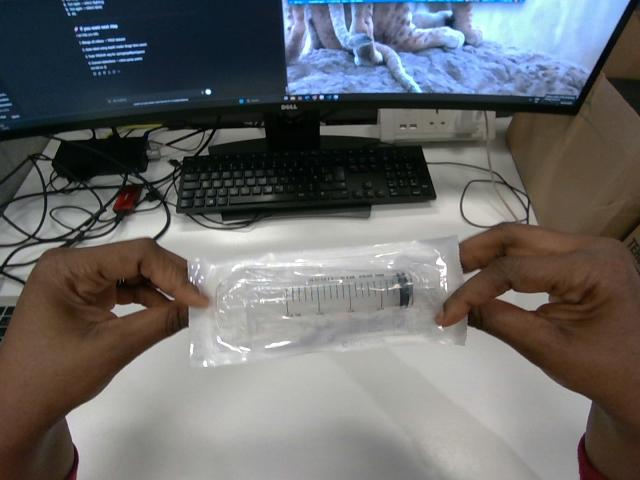syringe: (189, 237, 465, 366)
